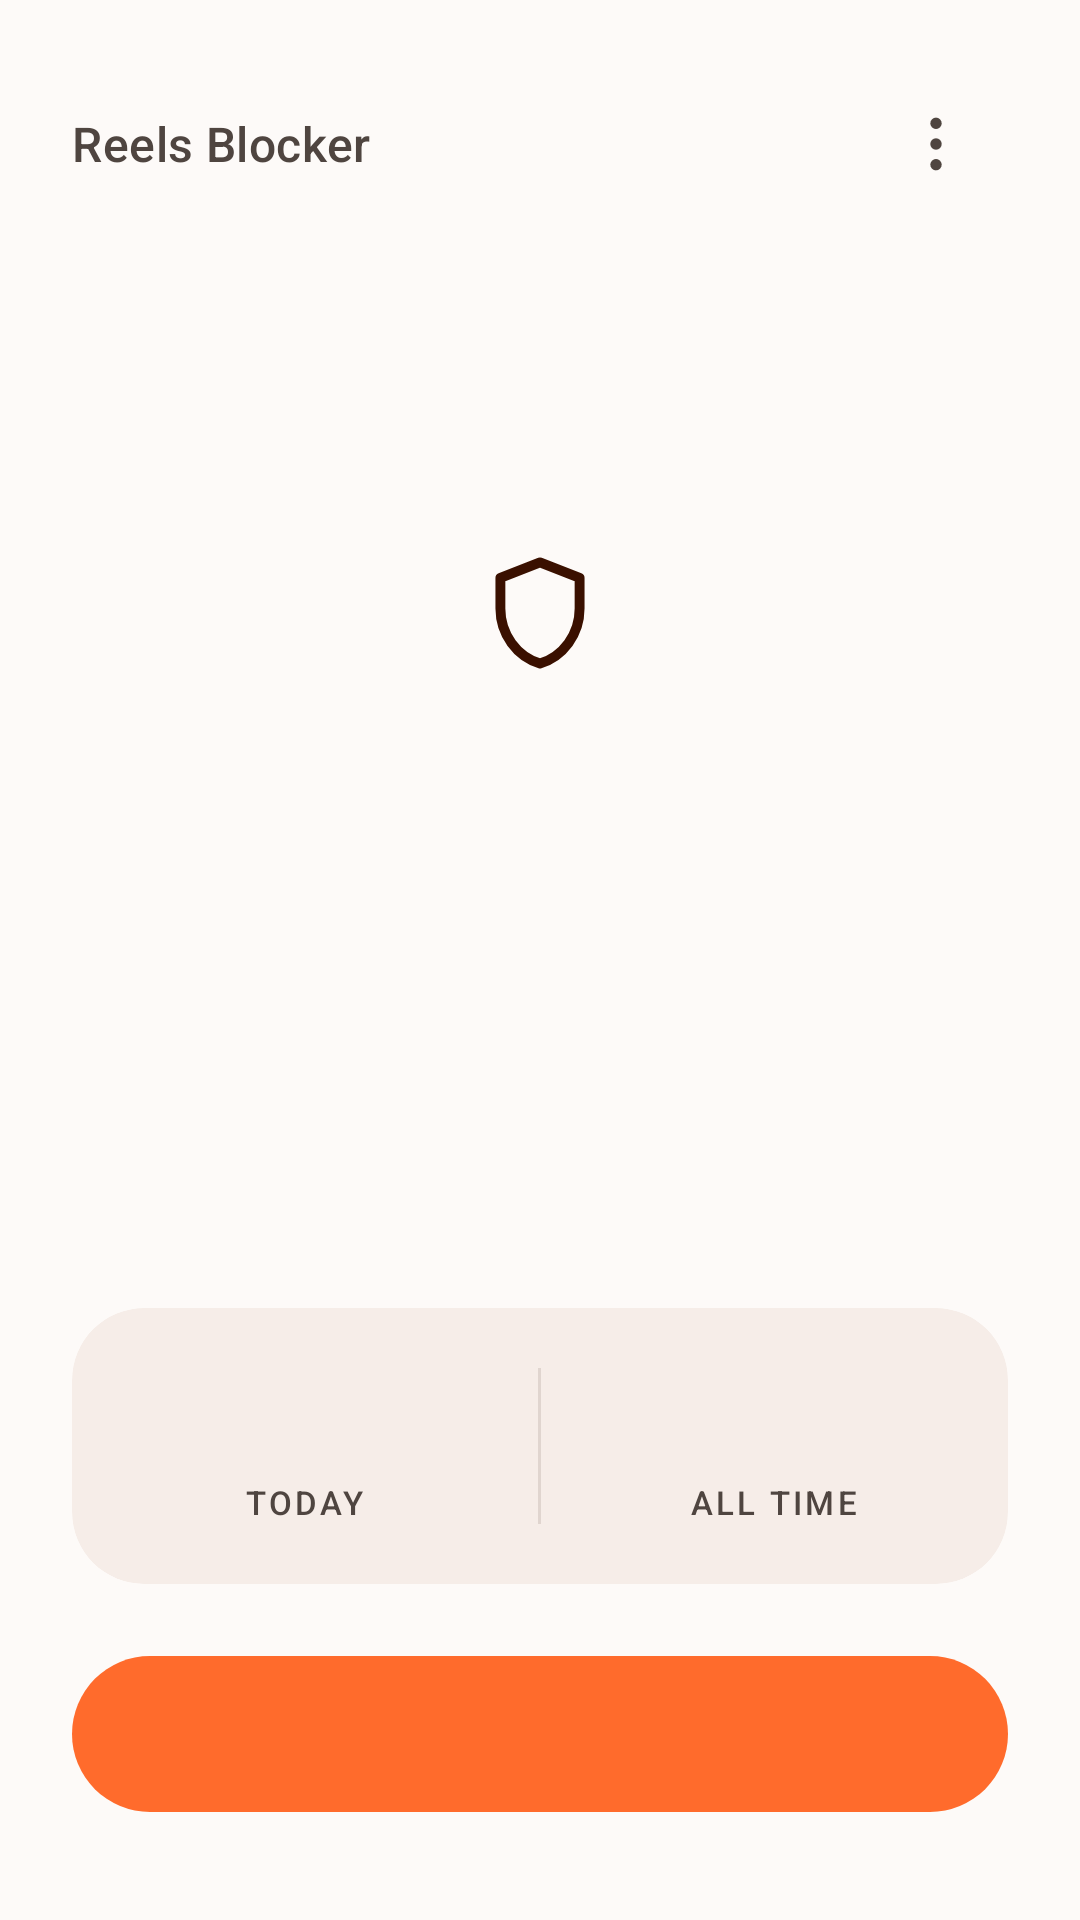

Named icons in this screenshot (1080w x 1920h) and their centers, point (x, y):
Advanced: point (936, 144)
shield: point (540, 613)
